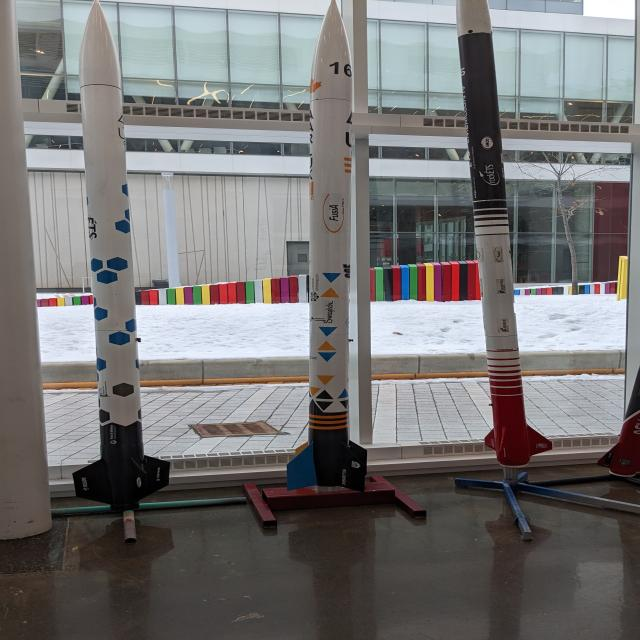Rocket: (73, 0, 171, 511), (455, 0, 552, 468), (286, 0, 368, 493)
